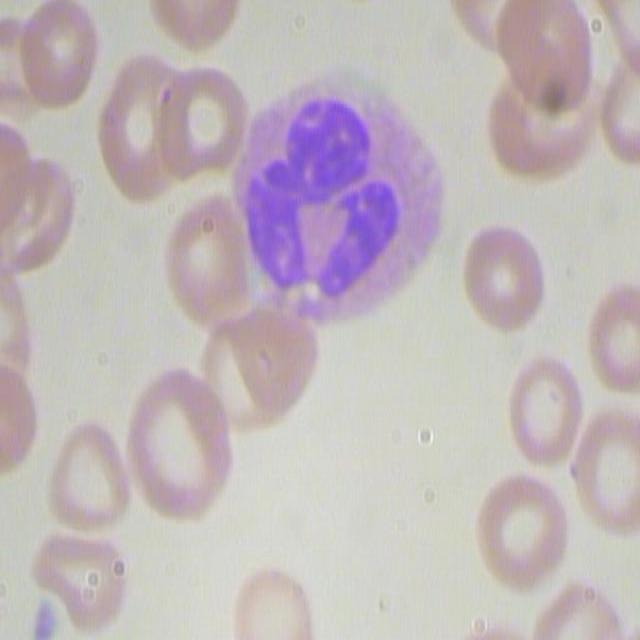RBC: (488, 0, 606, 177), (118, 365, 235, 524), (201, 297, 314, 446), (96, 56, 180, 205), (0, 103, 67, 285), (156, 58, 252, 185), (473, 467, 569, 592), (5, 0, 103, 115), (161, 191, 240, 333), (42, 422, 132, 543), (564, 401, 640, 541), (505, 353, 590, 474), (458, 221, 548, 335), (32, 524, 128, 629), (224, 564, 320, 640), (586, 282, 640, 399), (592, 60, 640, 172), (145, 0, 247, 48)
WBC: (235, 61, 418, 332)
